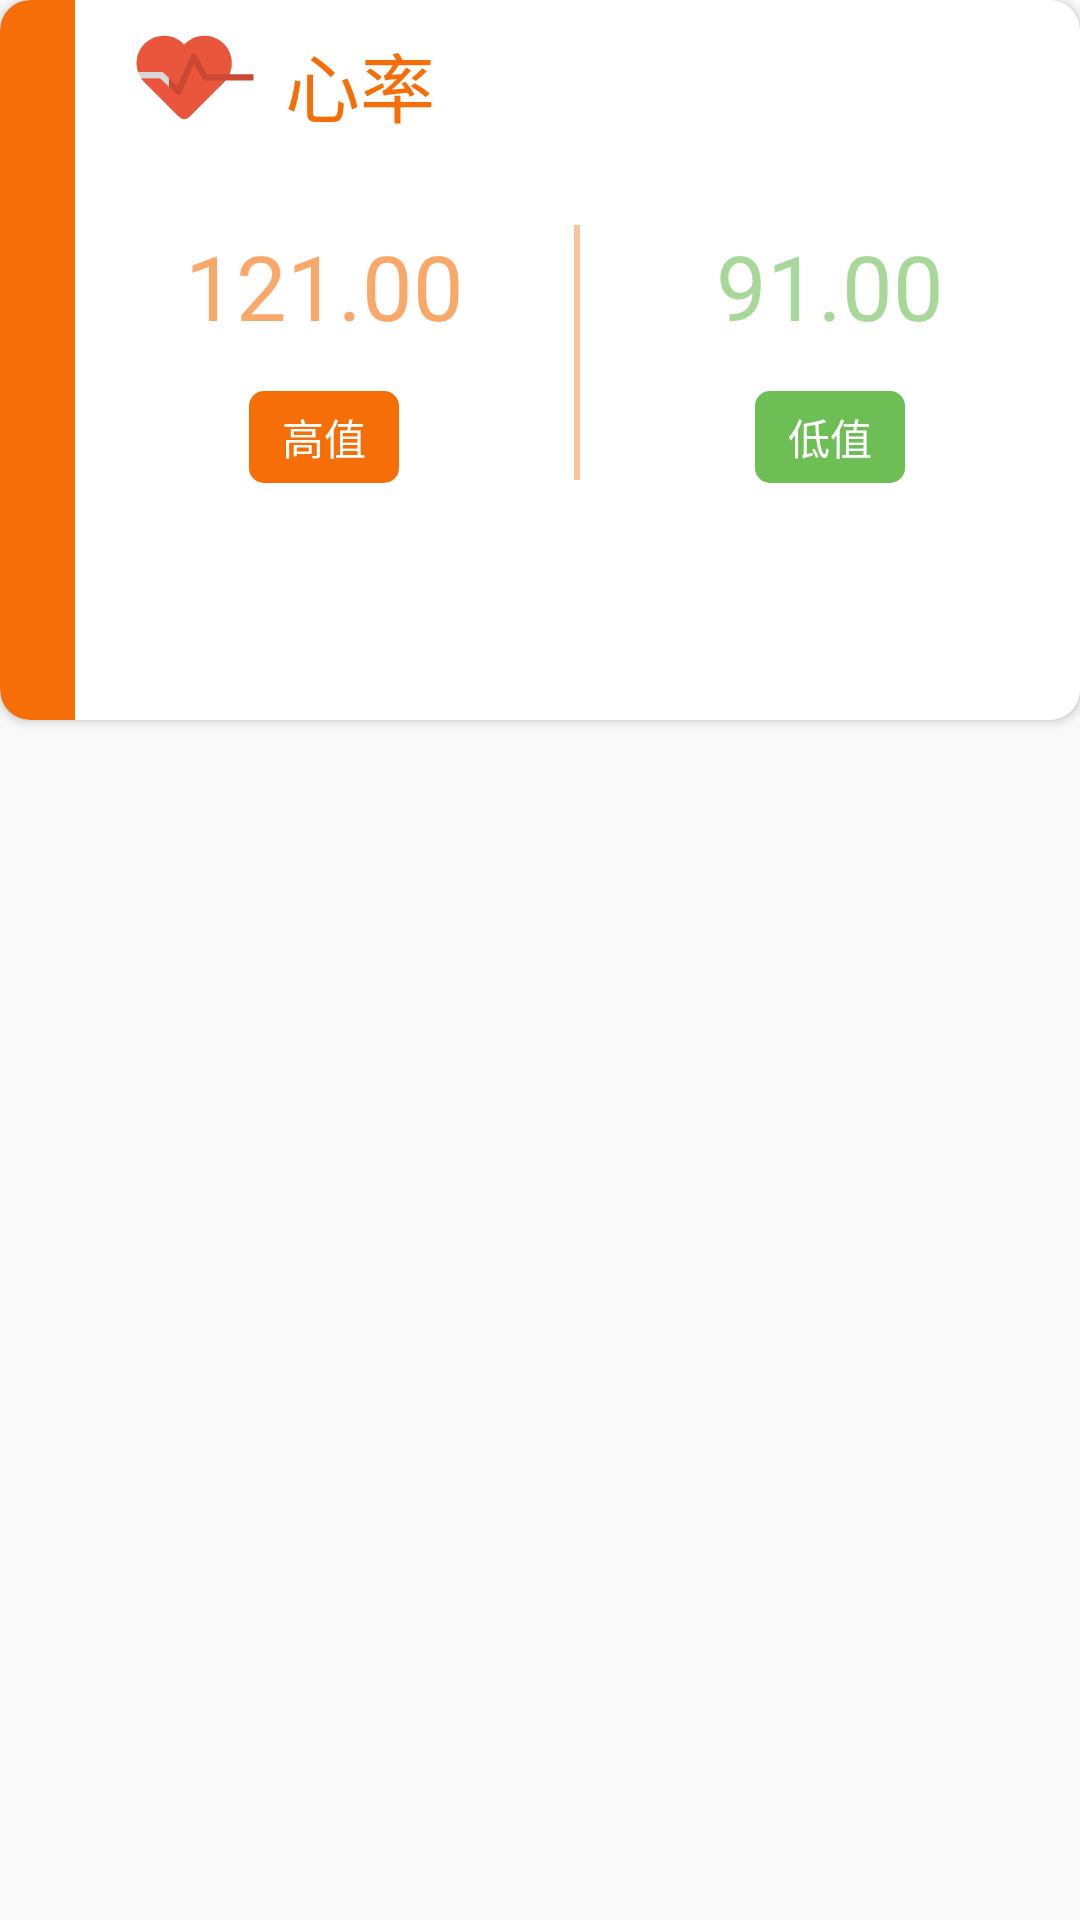

Named icons in this screenshot (1080×1920) and their centers, (x=x, y=y):
heart sign: (x=195, y=77)
